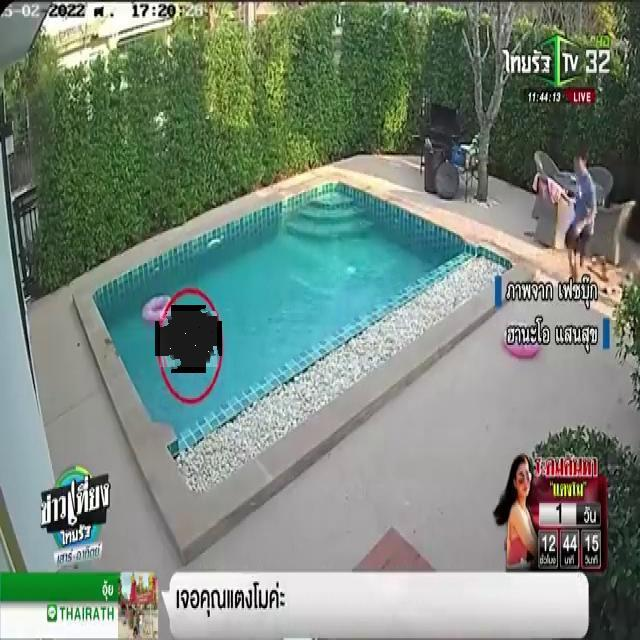Out of Water: (160, 311, 217, 367)
